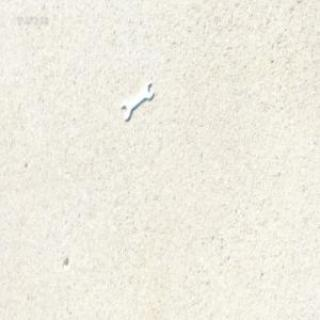Wrenchtrack_idkeyframe: (120, 82, 152, 120)
